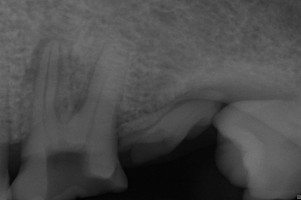Dental Caries: (55, 54, 100, 119), (19, 36, 52, 91)
